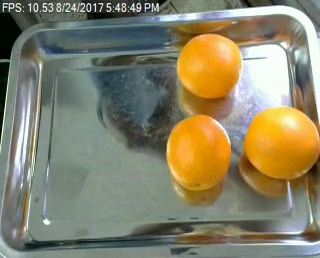Orange: (243, 106, 318, 180), (166, 113, 232, 190), (175, 31, 242, 99)
